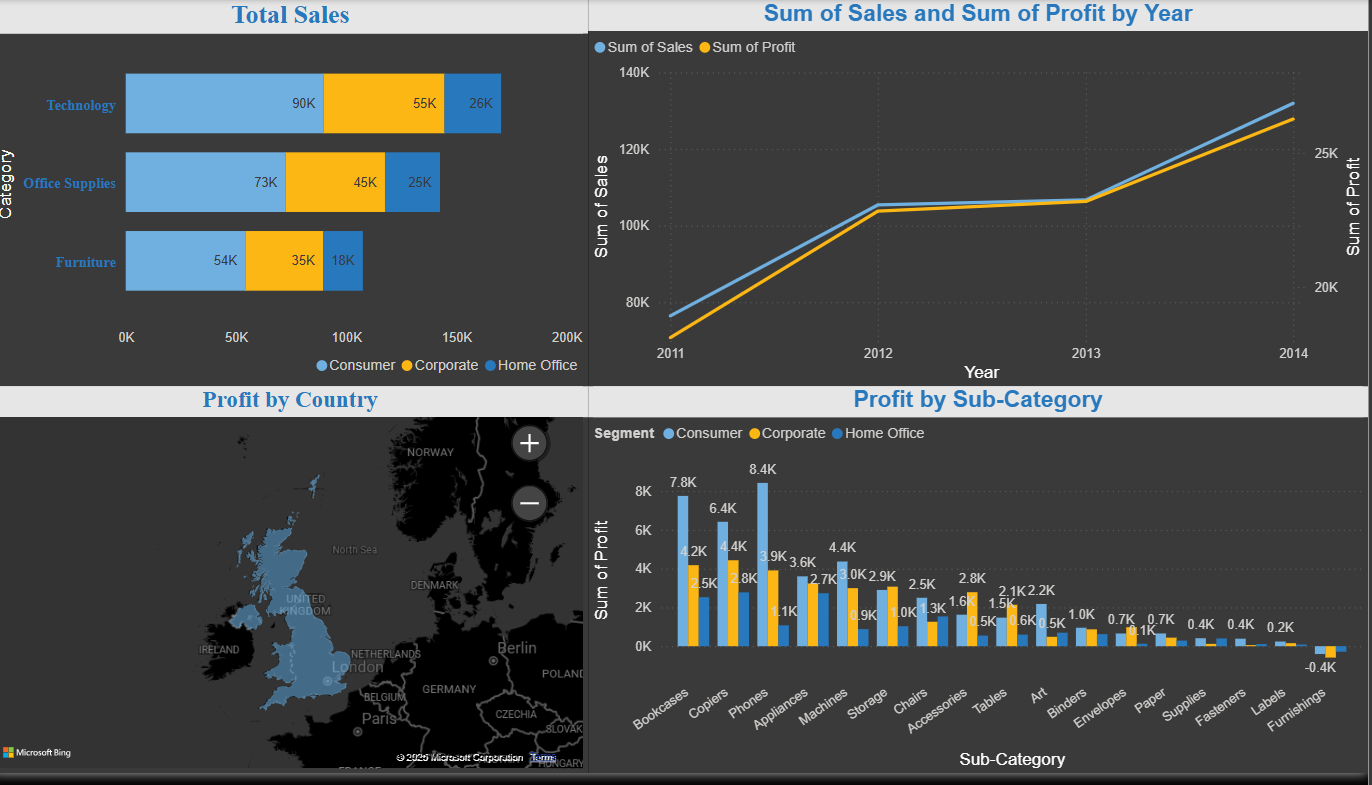

Layout of this report page (visuals, bound fields, positions):
{"tool":"powerbi","page":{"name":"Page 1","canvas":[1280,720],"ordinal":0},"visuals":[{"type":"barChart","title":"Total Sales","fields":{"Category":["OrderBreakdown.Category"],"Y":["Sum(OrderBreakdown.Sales)"],"Series":["ListOfOrders.Segment"]},"box":[0,0,554.7,359.3],"z":0},{"type":"filledMap","title":"Profit by Country","fields":{"Category":["ListOfOrders.Country"],"Series":["ListOfOrders.Country"]},"box":[0,359.3,554.7,360.5],"z":1000},{"type":"lineChart","fields":{"Category":["ListOfOrders.Order Date.Variation.Date Hierarchy.Year","ListOfOrders.Order Date.Variation.Date Hierarchy.Quarter","ListOfOrders.Order Date.Variation.Date Hierarchy.Month","ListOfOrders.Order Date.Variation.Date Hierarchy.Day"],"Y":["Sum(OrderBreakdown.Sales)"],"Y2":["Sum(OrderBreakdown.Profit)"]},"box":[554.7,0,725.6,359.3],"z":2000},{"type":"clusteredColumnChart","title":"Profit by Sub-Category","fields":{"Category":["OrderBreakdown.Sub-Category"],"Y":["Sum(OrderBreakdown.Profit)"],"Series":["ListOfOrders.Segment"]},"box":[554.7,359.3,725.6,360.5],"z":2001}]}

Visuals, with their boxes in screenshot pixels (x1, y1, x2, y2), scaled from the page's 1280x720 canvas onto the 1372x785 screenshot:
"Total Sales" barChart: [left=0, top=0, right=595, bottom=392]
"Profit by Country" filledMap: [left=0, top=392, right=595, bottom=784]
lineChart - ListOfOrders.Order Date.Variation.Date Hierarchy.Year x ListOfOrders.Order Date.Variation.Date Hierarchy.Quarter: [left=595, top=0, right=1371, bottom=392]
"Profit by Sub-Category" clusteredColumnChart: [left=595, top=392, right=1371, bottom=784]
